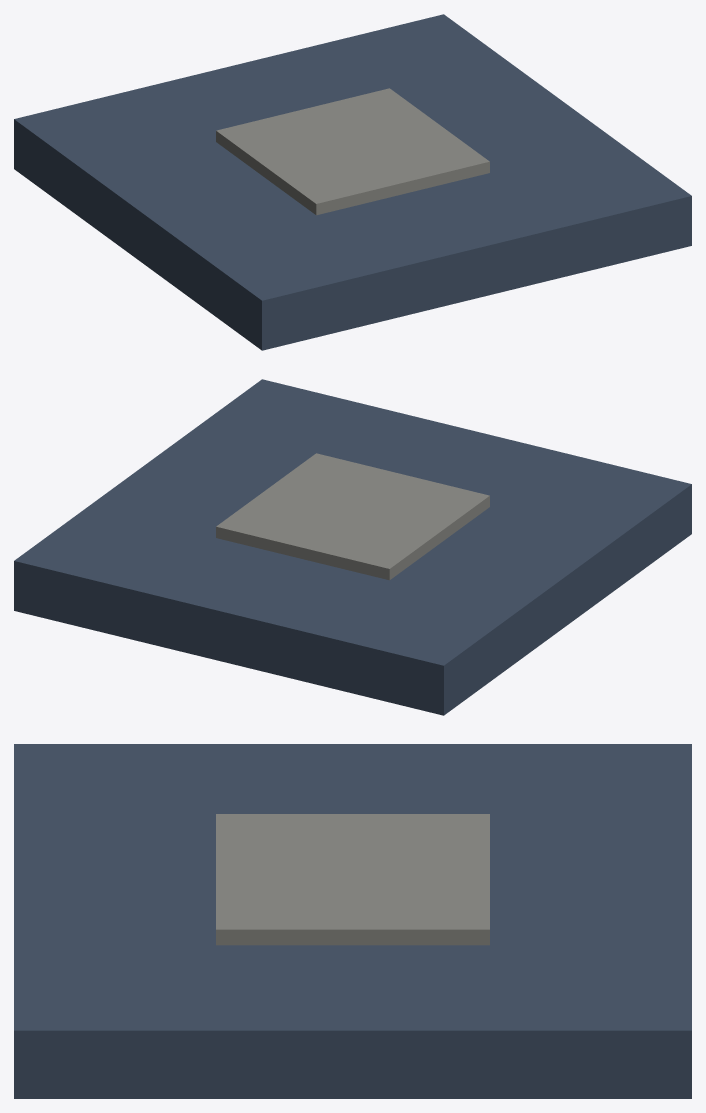
The model's file is mp8_hatch_5.obj.
3 renders of one model, top to bottom at view 1: azimuth 30°, elevation 25°; view 2: azimuth 150°, elevation 25°; view 3: azimuth 270°, elevation 25°, orthographic. The views are drawn at different scales.
Visible parts, largest first — view 1: mp8_hatch_5; view 2: mp8_hatch_5; view 3: mp8_hatch_5.
Boxes of the visible parts, x1,y1,x2,y2 form: mp8_hatch_5: [14, 14, 691, 350]; mp8_hatch_5: [14, 379, 691, 715]; mp8_hatch_5: [14, 744, 691, 1098].
Size of the model in its own units: 0.198 by 0.027 by 0.198.
